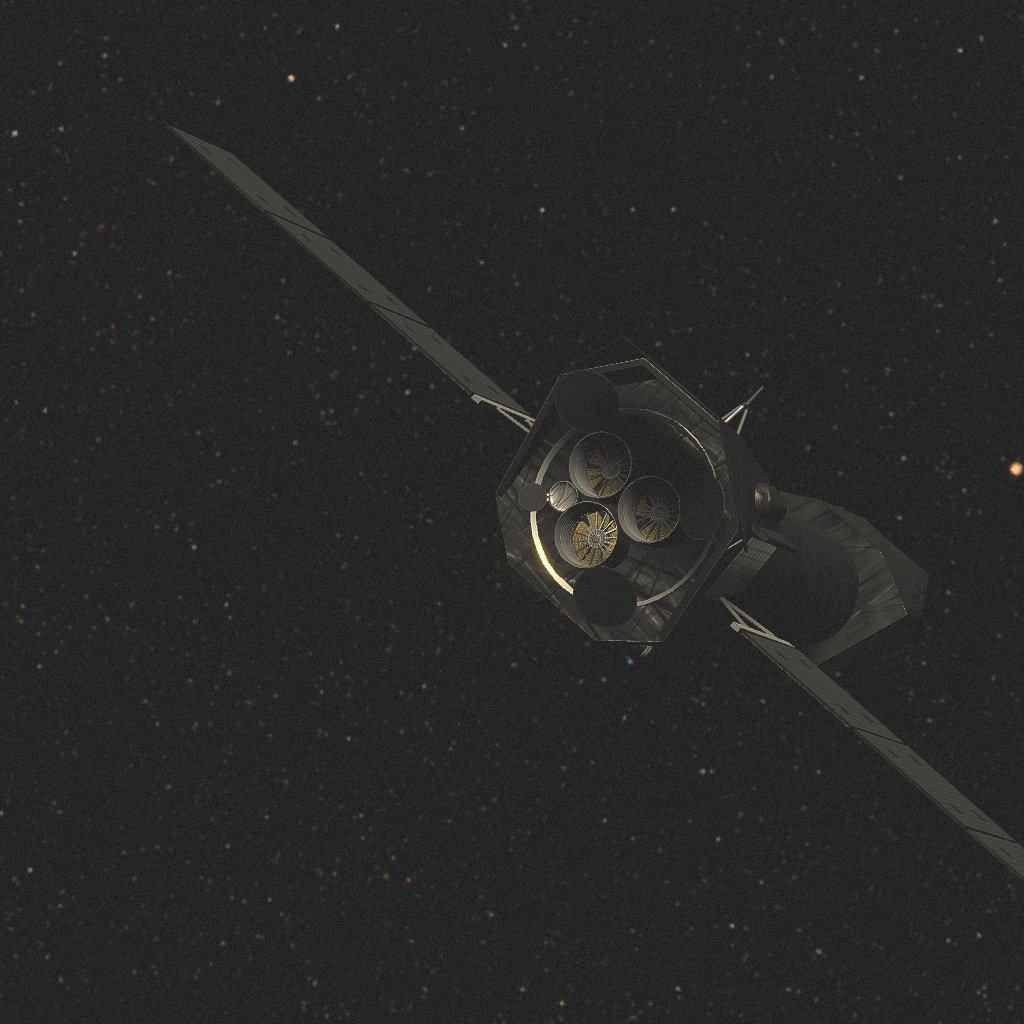xmm_newton: (165, 124, 1024, 881)
